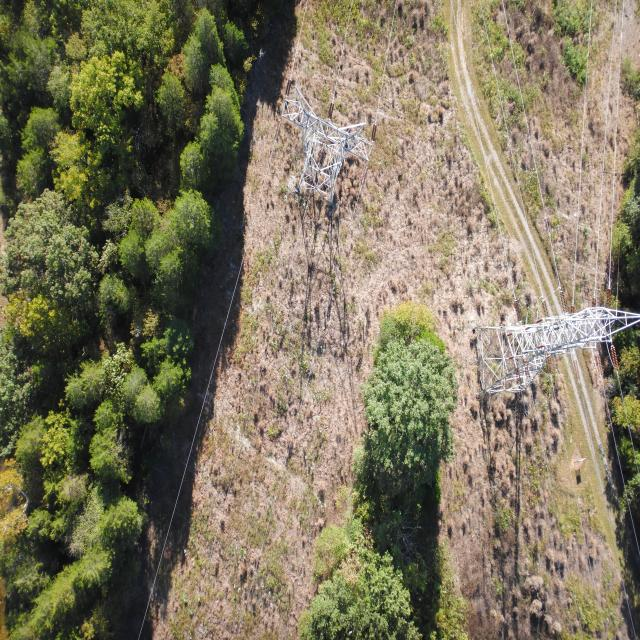Area of Interest: (9, 3, 253, 624)
